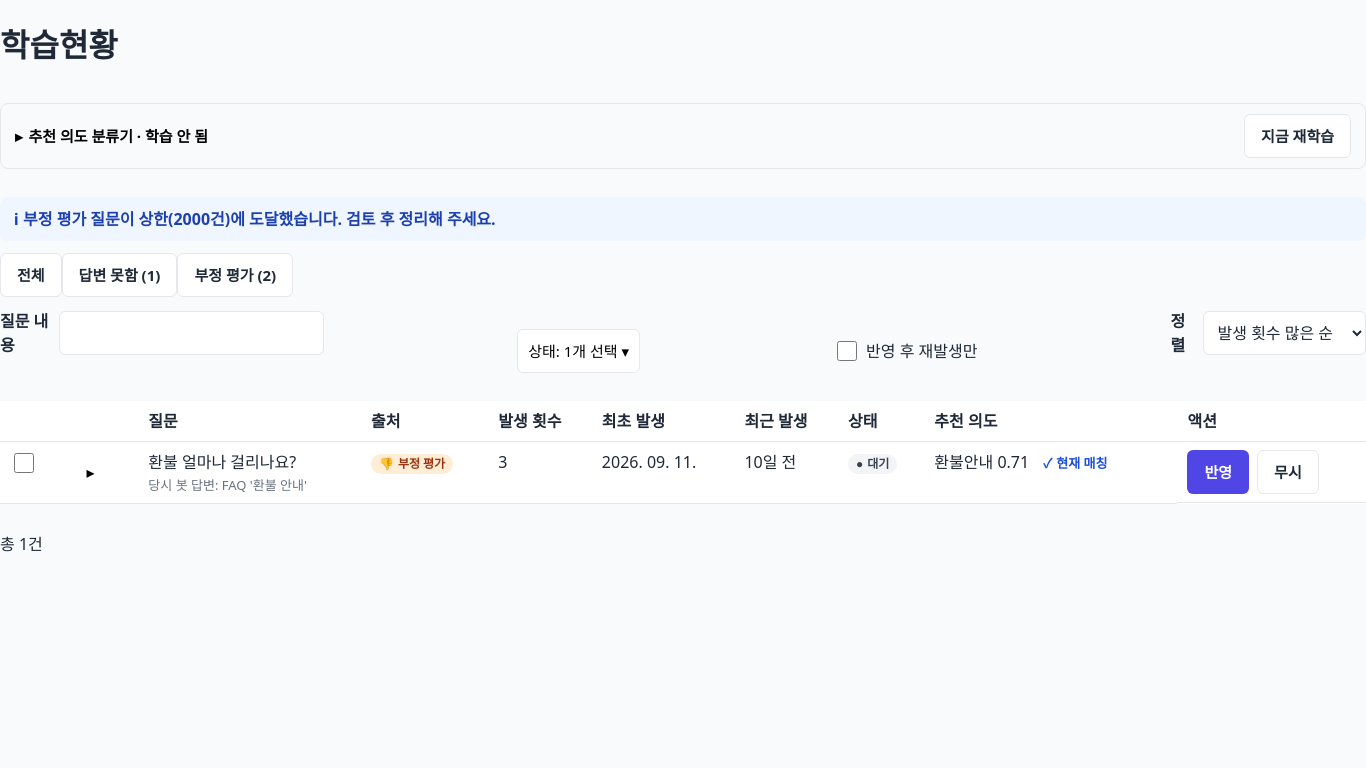
LearningQueuePage — 부정 평가 소스 확장(No.44) › "현재 매칭" 후보로 [이 의도로 반영]을 누르면 반영 모달 상단에 비차단 경고가 뜬다(FR-FB7-4)
Expected: the text "환불 얼마나 걸리나요?" is shown, top-left (148, 451), bottom-right (296, 473)
Click the button named "상세 펼치기": (91, 472) top-left (69, 450), bottom-right (113, 494)
(page scrolled)
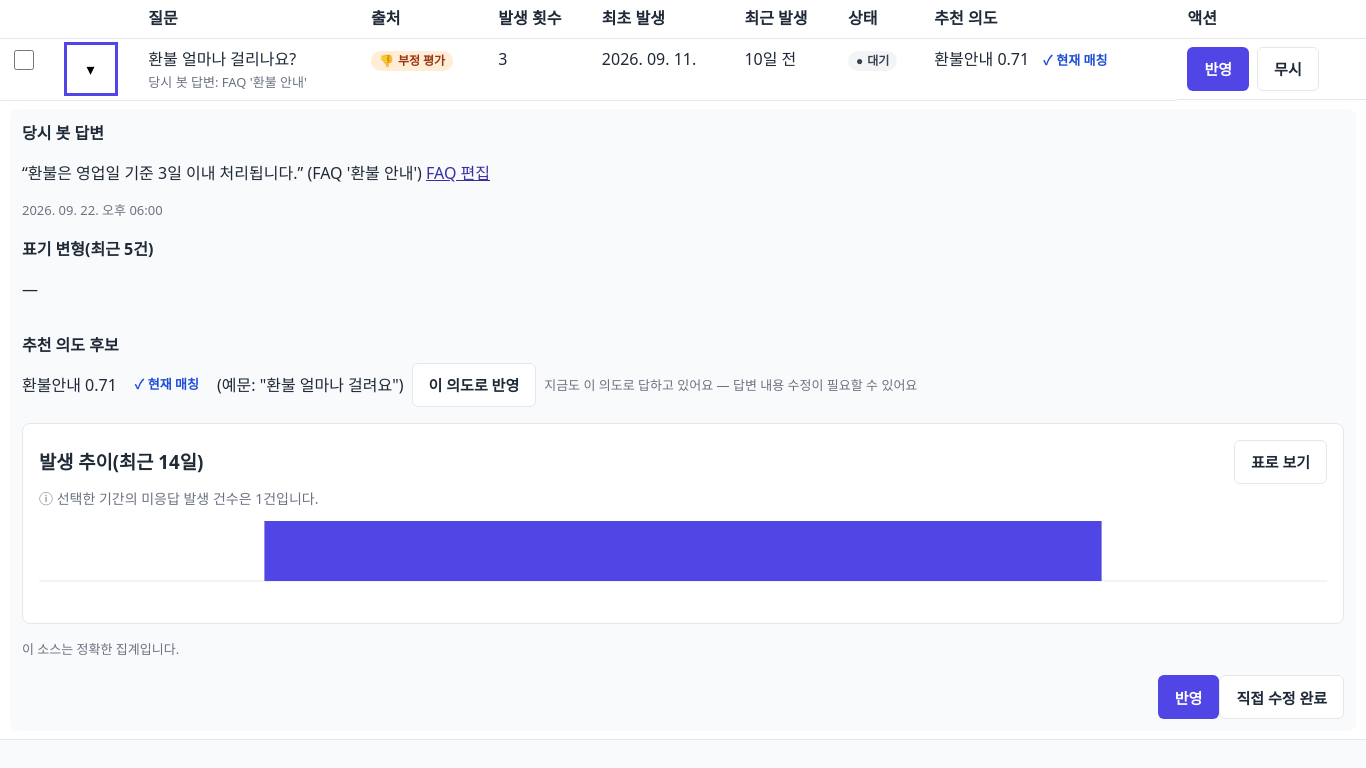
Expected: the text "“환불은 영업일 기준 3일 이내 처리됩니다.” (FAQ '환불 안내') FAQ 편집" is shown, top-left (22, 162), bottom-right (490, 184)
Click the button "이 의도로 반영": (474, 385) top-left (412, 363), bottom-right (536, 407)
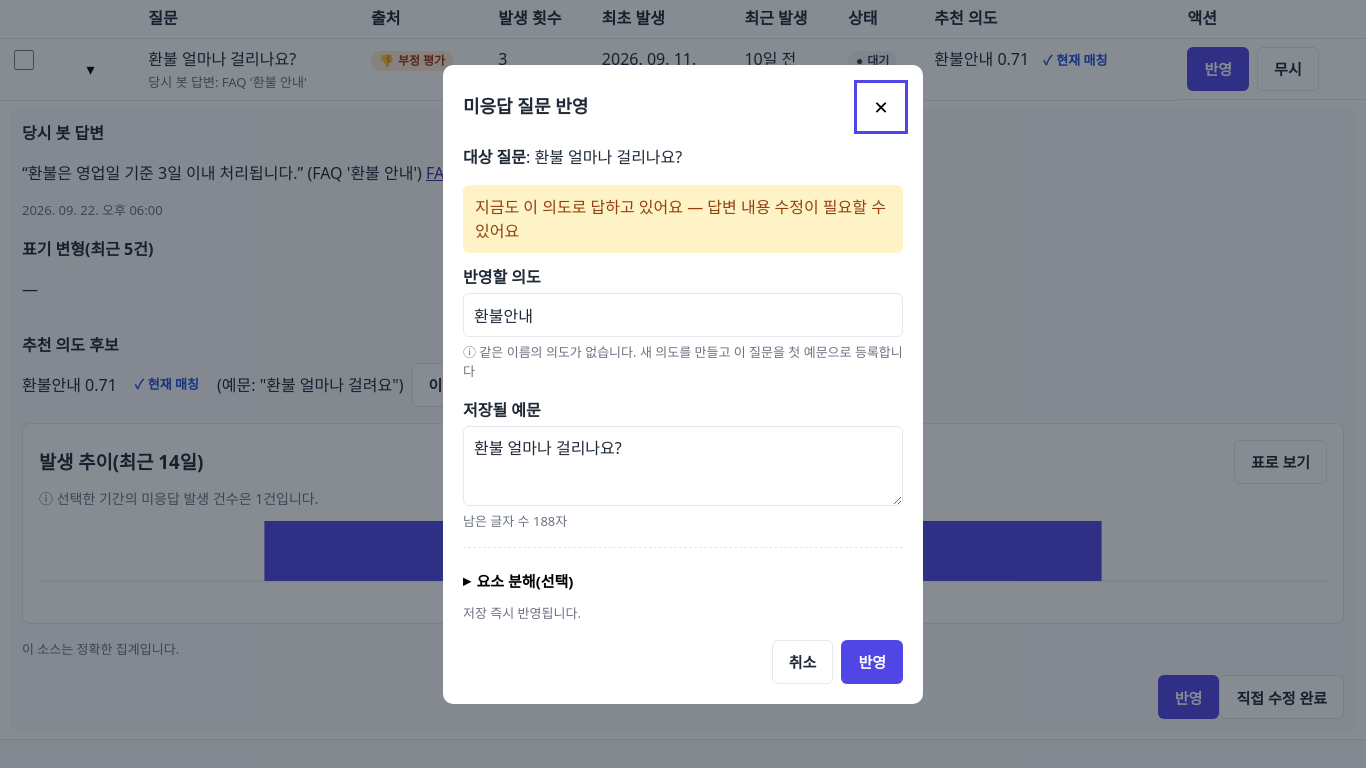
Expected: the dialog is shown, top-left (443, 64), bottom-right (923, 704)
Expected: the text "지금도 이 의도로 답하고 있어요 — 답변 내용 수정이 필요할 수 있어요" is shown, top-left (463, 184), bottom-right (903, 252)
